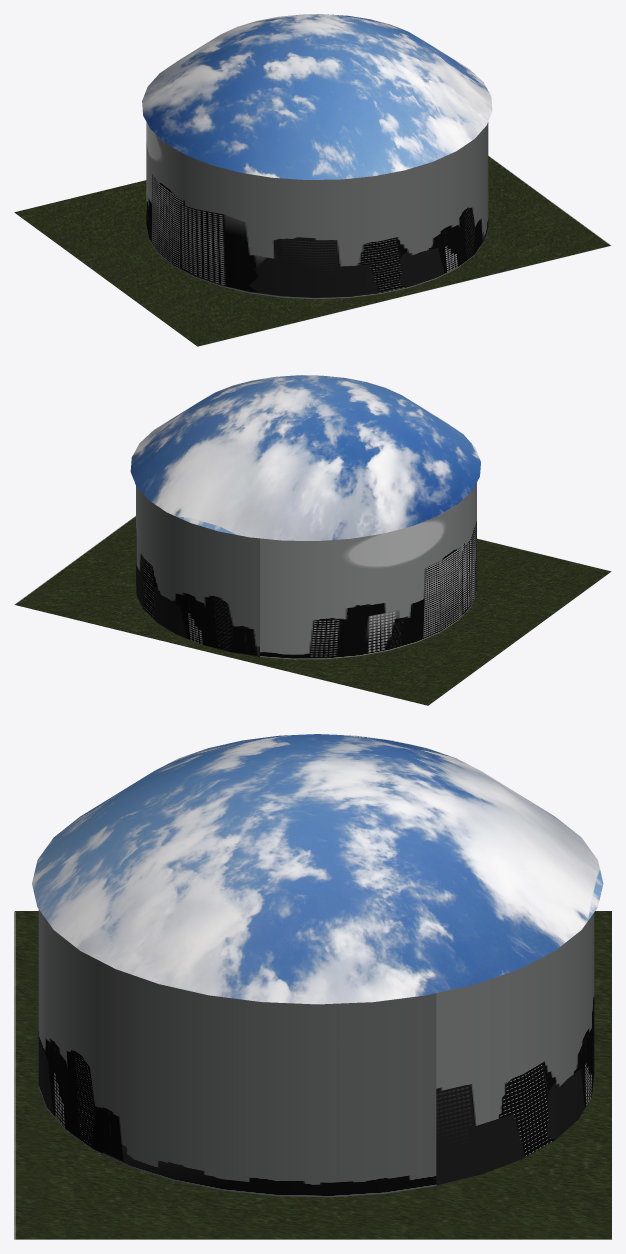
Rendered from basketmaster.fbx.
3 views of the same model, one above another, from view 1: azimuth 30°, elevation 25°; view 2: azimuth 150°, elevation 25°; view 3: azimuth 270°, elevation 25° (orthographic). The views are drawn at different scales.
Visible parts, largest first — view 1: Dome, Background, Grass; view 2: Dome, Background, Grass; view 3: Dome, Background, Grass.
Boxes of the visible parts, bbox=[...] form: Dome: bbox=[142, 14, 492, 179]; Background: bbox=[146, 122, 488, 299]; Grass: bbox=[14, 155, 611, 346]; Dome: bbox=[130, 375, 480, 540]; Background: bbox=[136, 482, 476, 659]; Grass: bbox=[14, 515, 611, 705]; Dome: bbox=[32, 734, 603, 1004]; Background: bbox=[38, 909, 594, 1197]; Grass: bbox=[14, 911, 611, 1239].
Bounding box in the file's own units: 124 × 55.79 × 95.17.
